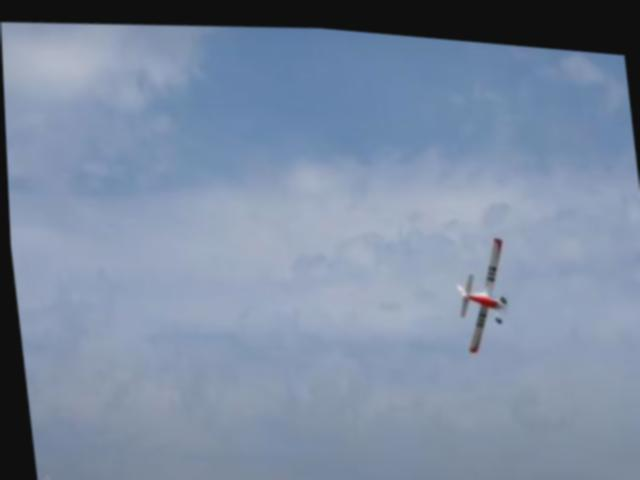uav: (443, 215, 519, 359)
